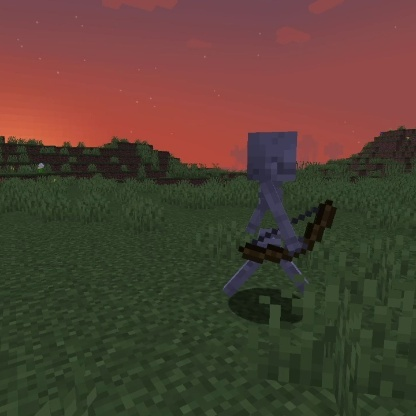skeleton: (219, 127, 340, 302)
